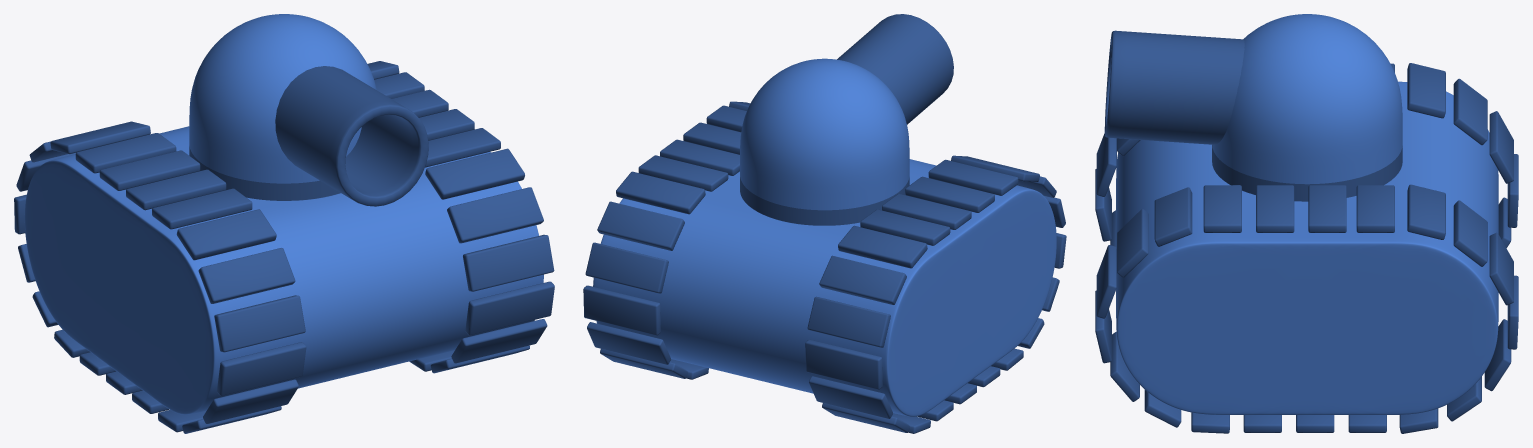
3 views of the same model, side by side, from view 1: azimuth 30°, elevation 25°; view 2: azimuth 150°, elevation 25°; view 3: azimuth 270°, elevation 25° (orthographic). The views are drawn at different scales.
Visible parts, largest first — view 1: Base.001, Turret.001, Weapon.001, Left Tread.016, Right Tread.019, Right Tread.004, Left Tread.017, Left Tread.018, Right Tread.001, Right Tread.018, Left Tread.015, Left Tread.019 (+14 smaller); view 2: Base.001, Turret.001, Weapon.001, Right Tread.007, Left Tread.004, Left Tread.003, Right Tread.006, Left Tread.005, Right Tread.008, Right Tread.005, Left Tread.002, Left Tread.006 (+12 smaller); view 3: Base.001, Turret.001, Weapon.001, Left Tread.002, Right Tread.005, Right Tread.001, Right Tread.020, Right Tread.003, Right Tread.021, Right Tread.022, Left Tread.003, Right Tread.006 (+19 smaller).
Part boxes in pixels (x1,y1,x2,y2): Base.001: [24, 126, 543, 414]; Turret.001: [189, 14, 376, 200]; Weapon.001: [275, 66, 428, 206]; Left Tread.016: [214, 295, 305, 352]; Right Tread.019: [463, 234, 554, 291]; Right Tread.004: [447, 187, 543, 243]; Left Tread.017: [198, 248, 295, 303]; Left Tread.018: [176, 209, 276, 260]; Right Tread.001: [425, 148, 524, 199]; Right Tread.018: [465, 281, 554, 335]; Left Tread.015: [217, 342, 306, 395]; Left Tread.019: [152, 188, 252, 229]; Base.001: [593, 159, 1056, 416]; Turret.001: [740, 58, 909, 225]; Weapon.001: [837, 14, 953, 124]; Right Tread.007: [585, 242, 668, 293]; Left Tread.004: [807, 296, 890, 347]; Left Tread.003: [819, 255, 906, 304]; Right Tread.006: [597, 201, 684, 250]; Left Tread.005: [805, 339, 882, 389]; Right Tread.008: [583, 285, 660, 335]; Right Tread.005: [616, 171, 705, 214]; Left Tread.002: [838, 225, 927, 268]; Left Tread.006: [809, 376, 892, 418]; Base.001: [1116, 81, 1498, 414]; Turret.001: [1212, 14, 1402, 201]; Weapon.001: [1104, 30, 1244, 144]; Left Tread.002: [1407, 63, 1445, 118]; Right Tread.005: [1407, 184, 1445, 239]; Right Tread.001: [1154, 187, 1192, 246]; Right Tread.020: [1203, 185, 1241, 232]; Right Tread.003: [1356, 185, 1394, 232]; Right Tread.021: [1256, 185, 1294, 232]; Right Tread.022: [1308, 185, 1346, 232]; Left Tread.003: [1453, 78, 1487, 145]; Right Tread.006: [1453, 200, 1487, 266].
Size of the model in its own units: 2 by 1.9 by 2.21.
